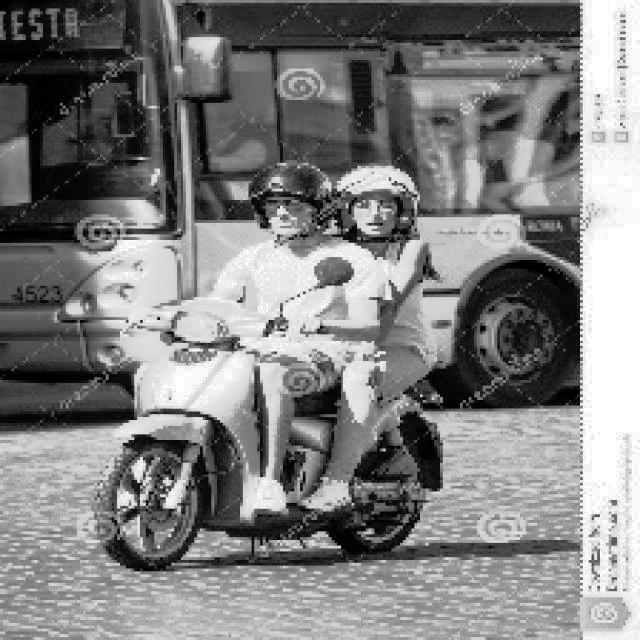Bike: (91, 309, 425, 588)
